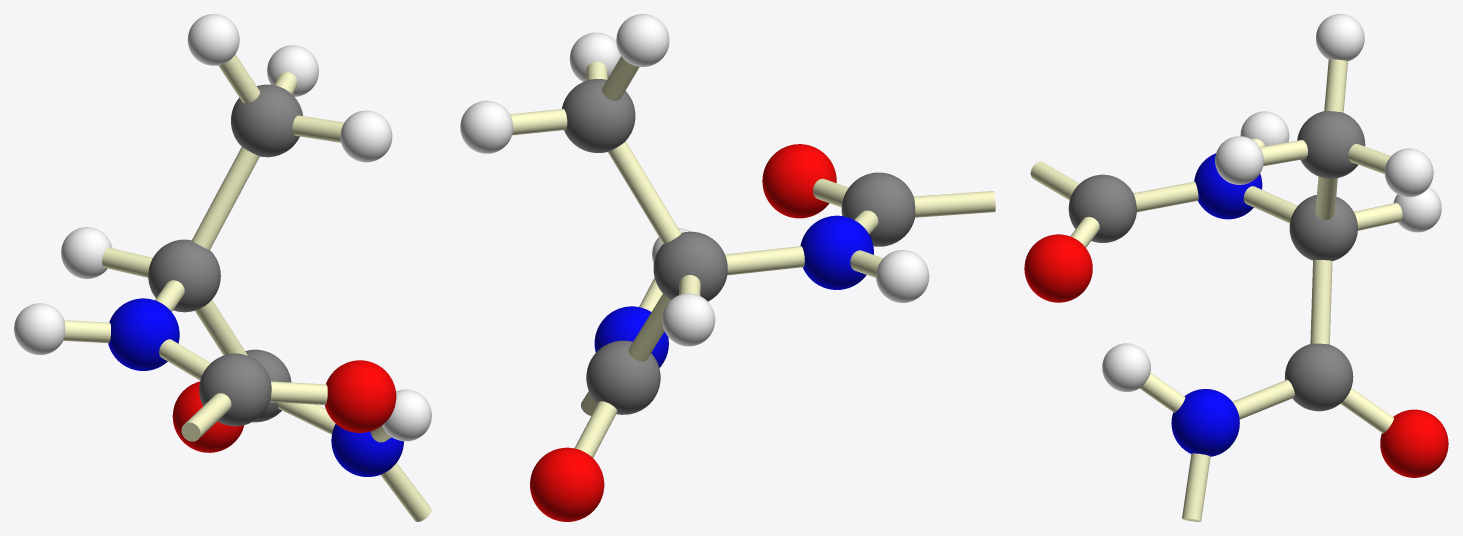
The model's file is conformation.gltf.
The picture shows the model from 3 angles, left to right: view 1: azimuth 30°, elevation 25°; view 2: azimuth 150°, elevation 25°; view 3: azimuth 270°, elevation 25°; orthographic projection. The views are drawn at different scales.
Parts seen in each view (by area): view 1: ?????????2, ?????????3, ?????????9, ?????????1, ?????????4, ?????????13, ?????????22, ?????????12, ?????????10, ?????????7, ?????????6, ?????????8 (+14 smaller); view 2: ?????????6, ?????????5, ?????????2, ?????????9, ?????????3, ?????????4, ?????????1, ?????????22, ?????????8, ?????????10, ?????????11, ?????????7 (+10 smaller); view 3: ?????????2, ?????????6, ?????????5, ?????????13, ?????????1, ?????????9, ?????????4, ?????????3, ?????????11, ?????????12, ?????????14, ?????????10 (+16 smaller).
Boxes of the visible parts, bbox=[...] form: ?????????2: bbox=[324, 360, 396, 432]; ?????????3: bbox=[108, 298, 179, 370]; ?????????9: bbox=[231, 84, 302, 157]; ?????????1: bbox=[199, 353, 271, 426]; ?????????4: bbox=[148, 239, 220, 312]; ?????????13: bbox=[331, 424, 403, 476]; ?????????22: bbox=[192, 147, 259, 249]; ?????????12: bbox=[340, 110, 392, 162]; ?????????10: bbox=[187, 14, 239, 65]; ?????????7: bbox=[14, 303, 65, 354]; ?????????6: bbox=[172, 381, 244, 452]; ?????????8: bbox=[61, 227, 112, 278]; ?????????6: bbox=[530, 447, 604, 521]; ?????????5: bbox=[586, 340, 660, 414]; ?????????2: bbox=[762, 144, 836, 218]; ?????????9: bbox=[562, 79, 635, 152]; ?????????3: bbox=[800, 215, 873, 289]; ?????????4: bbox=[653, 231, 727, 301]; ?????????1: bbox=[841, 172, 915, 246]; ?????????22: bbox=[608, 141, 681, 244]; ?????????8: bbox=[662, 293, 715, 346]; ?????????10: bbox=[616, 14, 669, 66]; ?????????11: bbox=[460, 100, 513, 153]; ?????????7: bbox=[876, 250, 929, 302]; ?????????2: bbox=[1024, 234, 1092, 302]; ?????????6: bbox=[1380, 409, 1448, 477]; ?????????5: bbox=[1285, 343, 1353, 411]; ?????????13: bbox=[1171, 389, 1239, 456]; ?????????1: bbox=[1068, 174, 1136, 242]; ?????????9: bbox=[1297, 111, 1365, 178]; ?????????4: bbox=[1289, 195, 1357, 260]; ?????????3: bbox=[1194, 153, 1262, 219]; ?????????11: bbox=[1384, 148, 1433, 197]; ?????????12: bbox=[1215, 136, 1263, 184]; ?????????14: bbox=[1102, 343, 1150, 391]; ?????????10: bbox=[1316, 14, 1364, 61].
Size of the model in its own units: 41.65 by 50.69 by 43.41.
